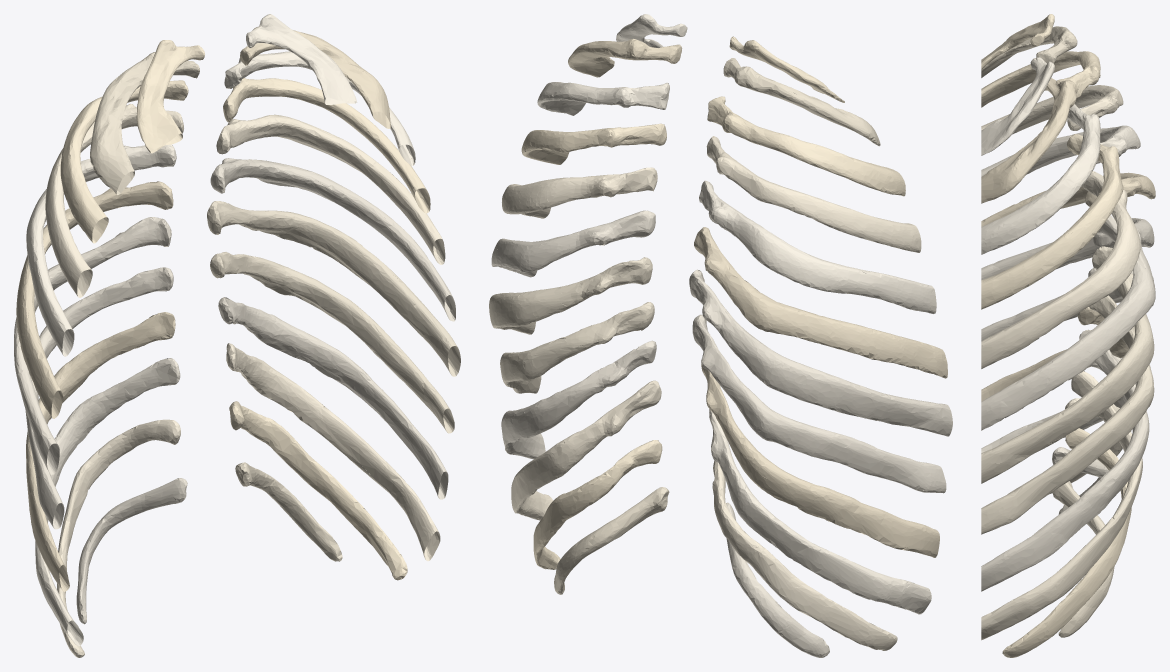
Rendered from gabbia_toracica_interno.glb.
3 renders of one model, left to right at view 1: azimuth 30°, elevation 25°; view 2: azimuth 150°, elevation 25°; view 3: azimuth 270°, elevation 25°, orthographic. The views are drawn at different scales.
Parts seen in each view (by area): view 1: left seventh rib, left tenth rib, left ninth rib, left eighth rib, left sixth rib, left fifth rib, right ninth rib, left eleventh rib, right tenth rib, right sixth rib, right seventh rib, right second rib (+12 smaller); view 2: right seventh rib, right eighth rib, right sixth rib, right ninth rib, right fifth rib, right tenth rib, right eleventh rib, right fourth rib, left tenth rib, left ninth rib, left seventh rib, right third rib (+12 smaller); view 3: left sixth rib, left seventh rib, left fifth rib, left ninth rib, left eighth rib, left fourth rib, left tenth rib, left third rib, left eleventh rib, left second rib, right third rib, left first rib (+12 smaller).
Part boxes in pixels (x1,y1,x2,y2): left seventh rib: (207,201,460,376); left tenth rib: (226,343,440,561); left ninth rib: (218,297,448,499); left eighth rib: (210,252,454,433); left sixth rib: (210,158,455,321); left fifth rib: (216,114,445,264); right ninth rib: (26,312,175,591); left eleventh rib: (229,401,407,580); right tenth rib: (35,358,180,646); right sixth rib: (16,181,173,418); right seventh rib: (14,217,171,474); right second rib: (90,52,199,194); right seventh rib: (689,269,952,436); right eighth rib: (692,314,946,493); right sixth rib: (694,227,947,378); right ninth rib: (701,359,939,557); right fifth rib: (699,180,936,313); right tenth rib: (709,409,931,614); right eleventh rib: (712,460,897,650); right fourth rib: (706,136,921,252); left tenth rib: (511,380,661,520); left ninth rib: (501,340,656,459); left seventh rib: (489,257,652,334); right third rib: (707,96,905,196); left sixth rib: (981,215,1155,430); left seventh rib: (981,246,1154,483); left fifth rib: (981,171,1140,368); left ninth rib: (981,329,1149,591); left eighth rib: (981,295,1154,534); left fourth rib: (981,134,1123,309); left tenth rib: (981,371,1142,640); left third rib: (981,104,1100,254); left eleventh rib: (1002,428,1131,657); left second rib: (981,77,1077,203); right third rib: (981,51,1100,107); left first rib: (981,57,1054,155).
Bounding box in the file's own units: 273 × 362 × 105.
